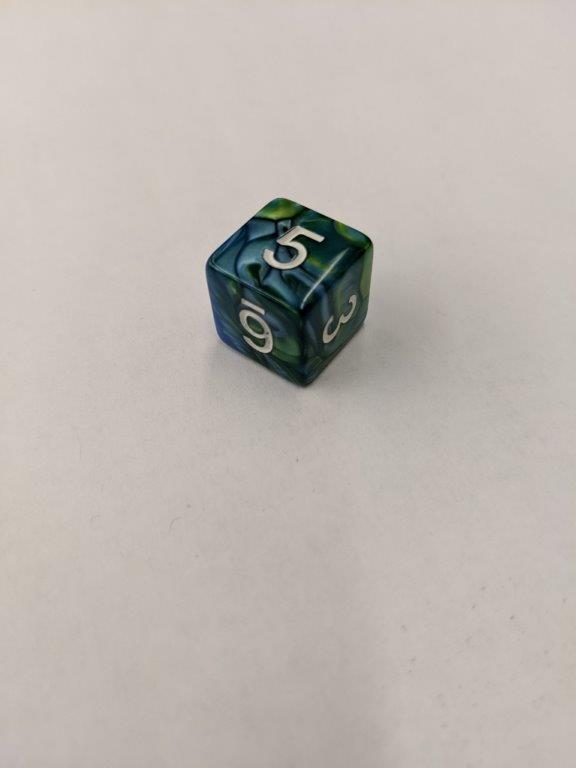d6-5: (206, 197, 373, 388)
